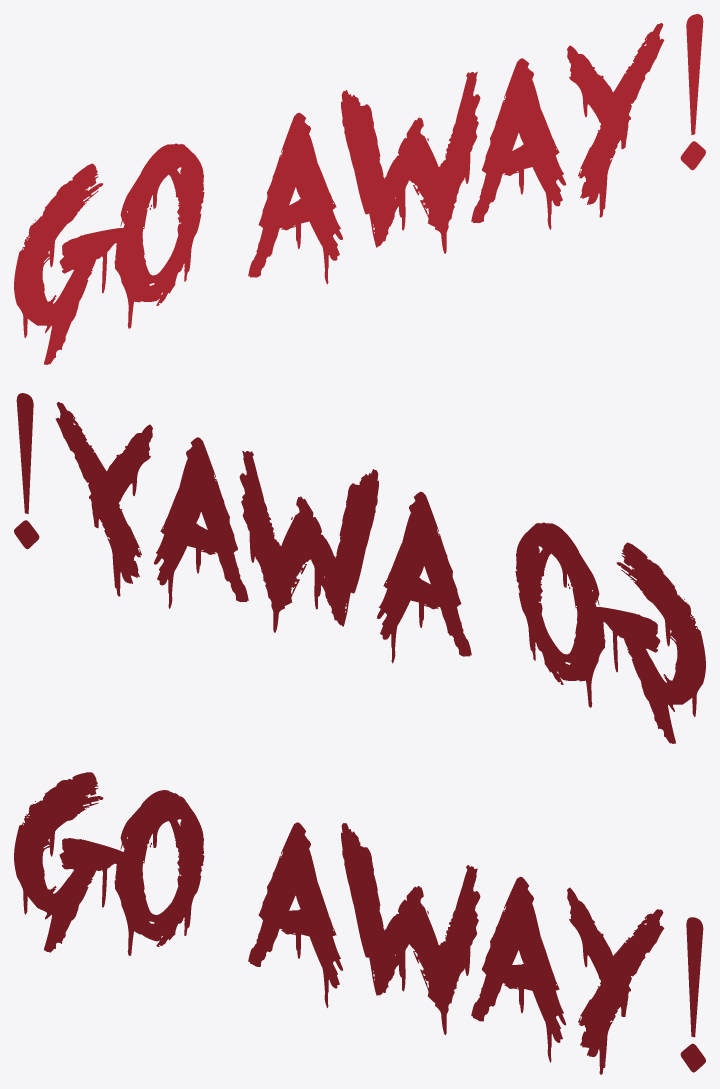
Rendered from Go Away text. 1fbx.fbx.
3 renders of one model, top to bottom at view 1: azimuth 30°, elevation 25°; view 2: azimuth 150°, elevation 25°; view 3: azimuth 330°, elevation 25°, orthographic.
Visible parts, largest first — view 1: Text; view 2: Text; view 3: Text.
Boxes of the visible parts, x1,y1,x2,y2 form: Text: (14,14,705,364); Text: (14,393,705,743); Text: (14,772,705,1074).
Size of the model in its own units: 319 by 88.87 by 3.88e-06.
